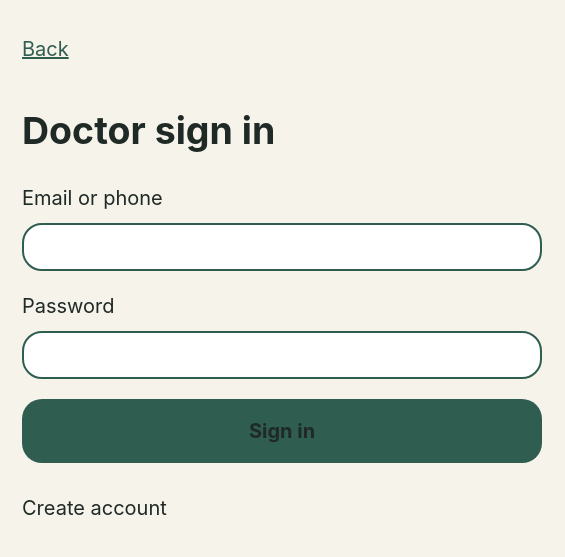
Scenario: shows translated awaiting approval message
Type "deka@example.com" into the field labelled "Email or phone" at [282, 246], box [22,222,542,270]
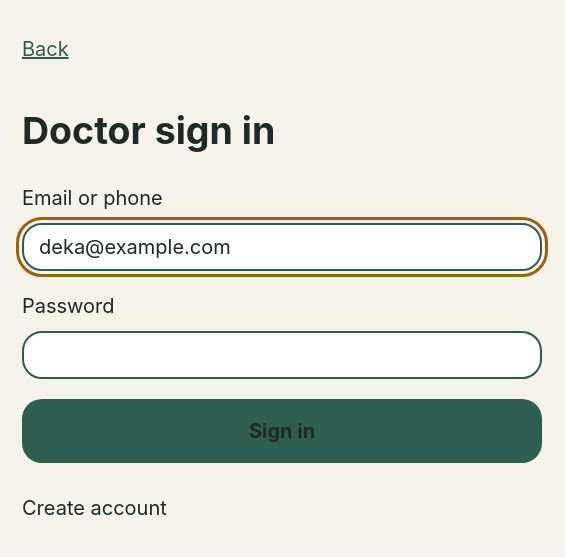
Type "not-approved-yet" into the password field labelled "Password" at [282, 354], box [22,330,542,378]
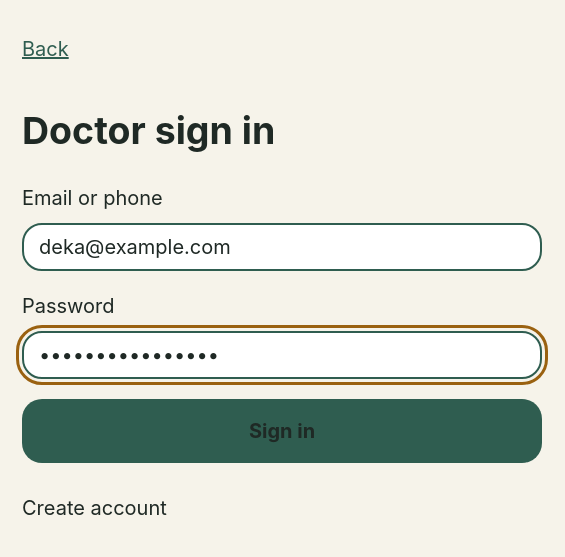
Click the button "Sign in" at [282, 430], box [22,398,542,462]
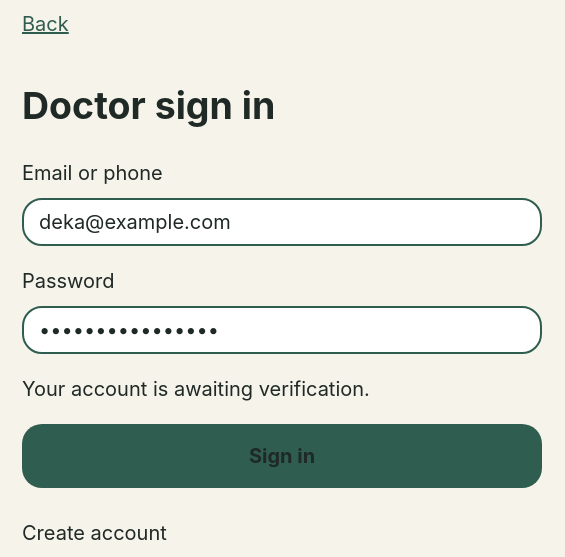
Now the message reads "Your account is awaiting verification.", box [22,376,370,400]
